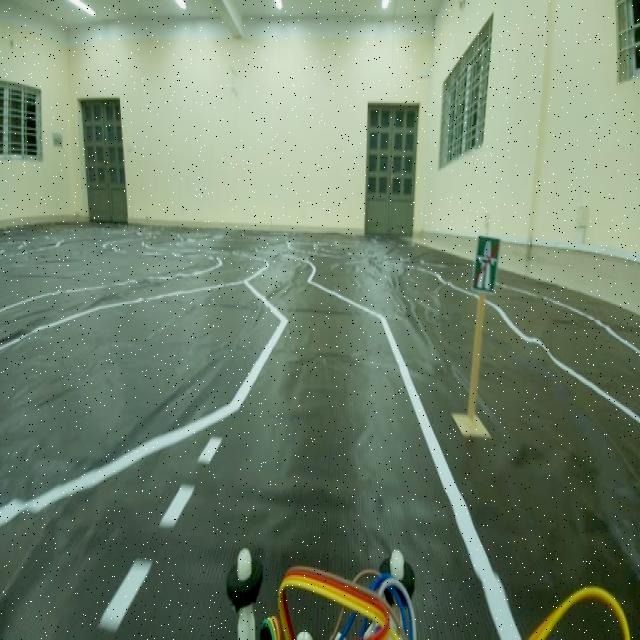highway_exit: (466, 223, 502, 308)
